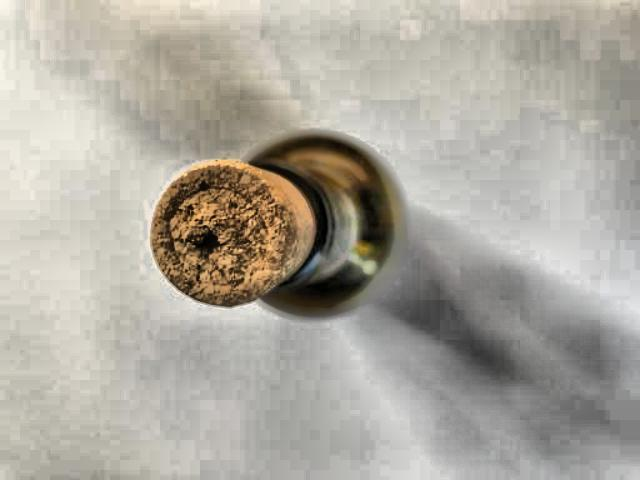Bottles: (129, 99, 453, 366)
